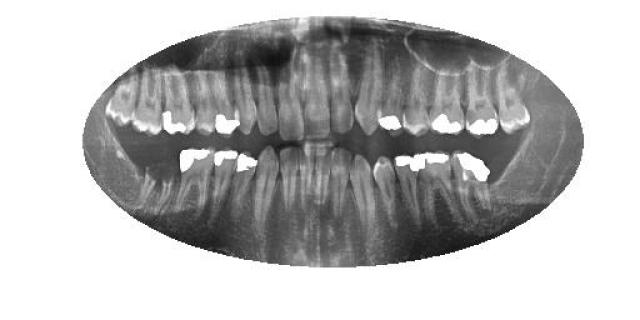Fillings: (415, 148, 459, 222), (173, 145, 215, 220), (452, 147, 492, 215), (161, 61, 195, 135), (429, 67, 466, 135), (465, 68, 499, 138), (230, 148, 259, 222), (210, 146, 238, 220), (395, 151, 423, 224), (210, 68, 239, 138), (379, 62, 405, 138), (138, 162, 174, 214)
